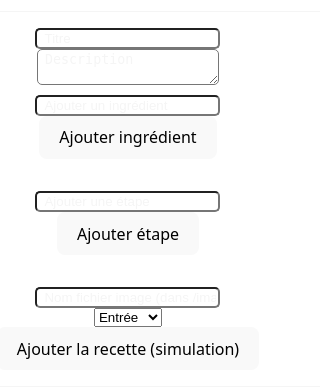
Test case: RecipeForm › ajoute une étape quand on clique sur 'Ajouter étape'
Type "Cuire 20 minutes" into the field with placeholder "Ajouter une étape". click: (128, 201)
box: [36,191,220,212]
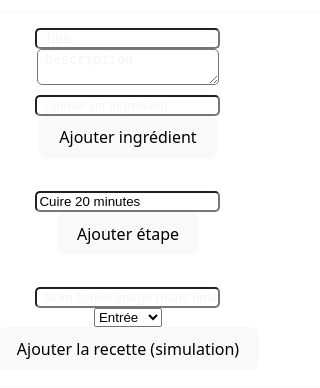
Click the button "Ajouter étape". click: (128, 234)
box: [57,212,199,255]
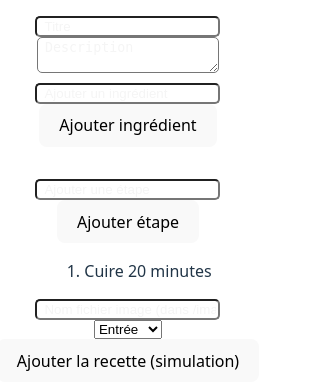
expect the list item "Cuire 20 minutes" is shown: met, box [84,259,212,283]
expect the field with placeholder "Ajouter une étape" is empty: met, box [36,179,220,200]
